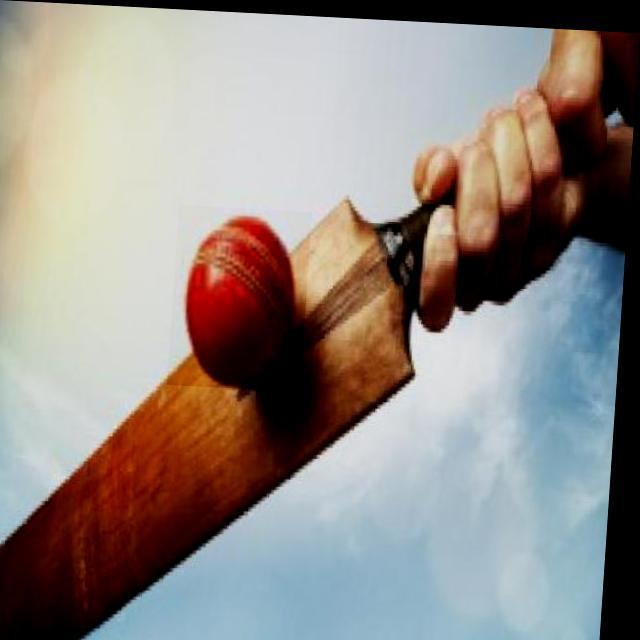-: (172, 203, 314, 388)
